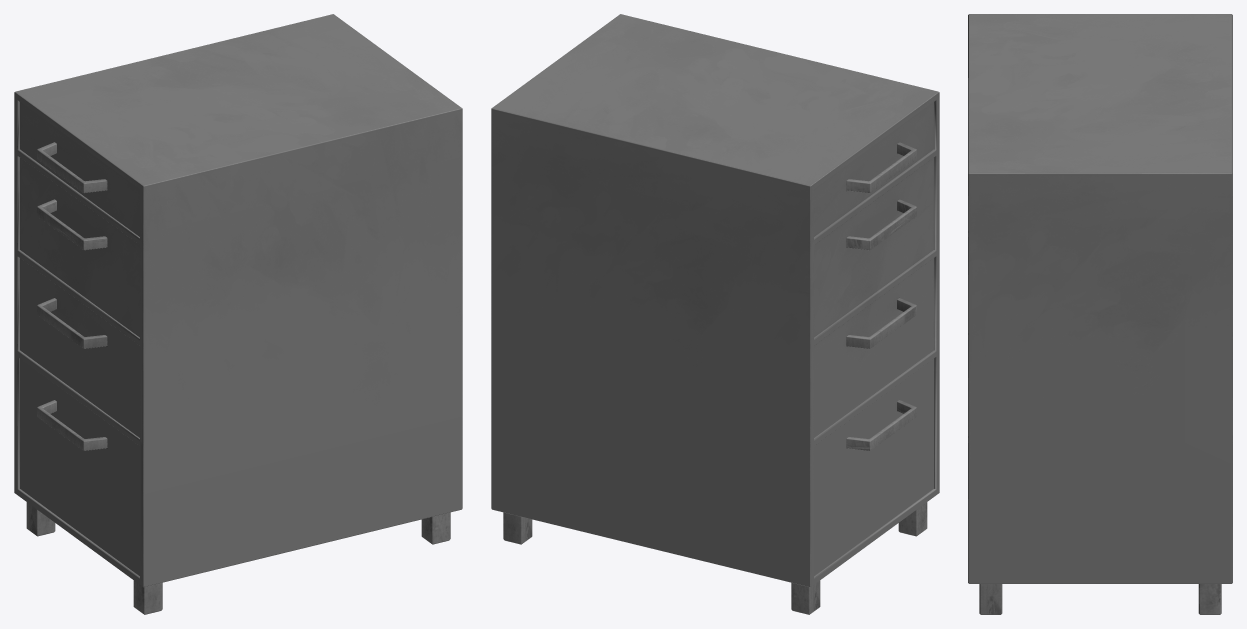
Rendered from SM_Workdesk_Locker_01.fbx.
3 renders of one model, left to right at view 1: azimuth 30°, elevation 25°; view 2: azimuth 150°, elevation 25°; view 3: azimuth 270°, elevation 25°, orthographic. The views are drawn at different scales.
Visible parts, largest first — view 1: SM_Workdesk_Locker_01_LOD0; view 2: SM_Workdesk_Locker_01_LOD0; view 3: SM_Workdesk_Locker_01_LOD0.
Part boxes in pixels (bbox=[...]): SM_Workdesk_Locker_01_LOD0: bbox=[14, 14, 462, 614]; SM_Workdesk_Locker_01_LOD0: bbox=[491, 14, 939, 614]; SM_Workdesk_Locker_01_LOD0: bbox=[968, 14, 1232, 614].
Bounding box in the file's own units: 52.9 × 35 × 65.
